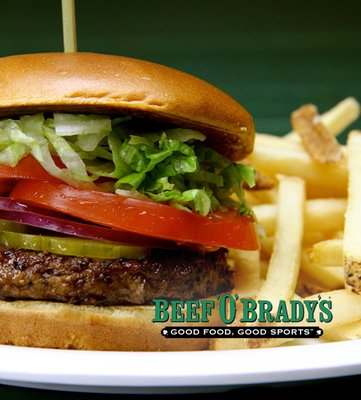soup: (1, 49, 263, 328)
